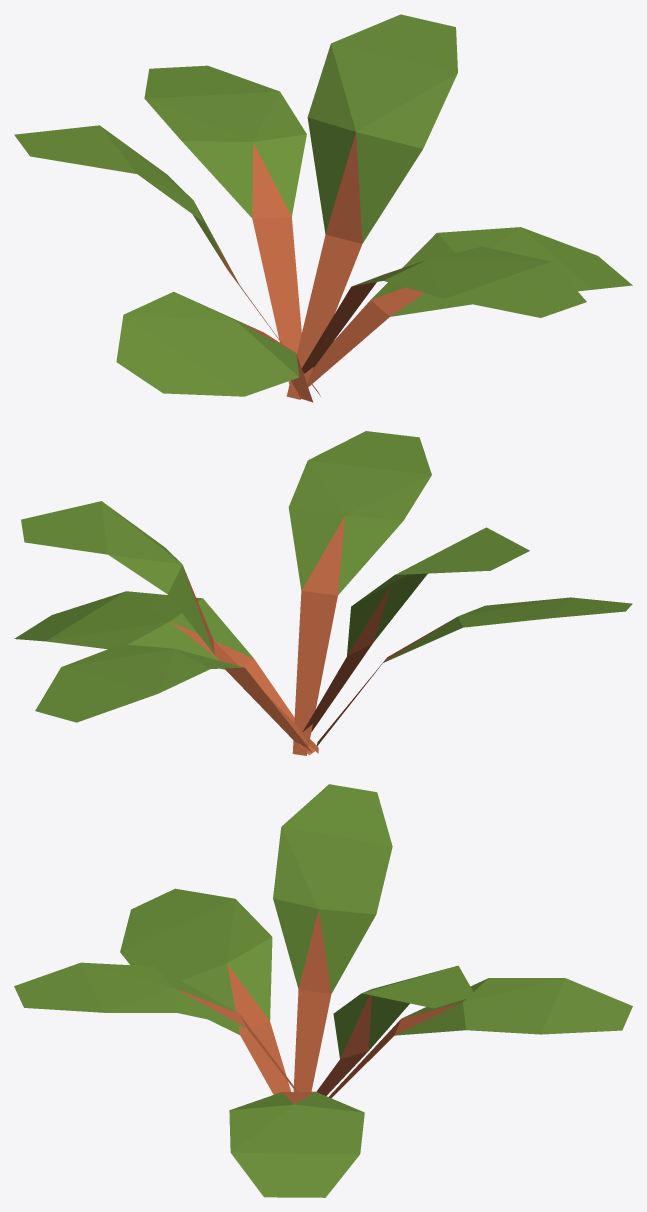
Rendered from plant_S05.FBX.
The picture shows the model from 3 angles, top to bottom: view 1: azimuth 30°, elevation 25°; view 2: azimuth 150°, elevation 25°; view 3: azimuth 270°, elevation 25°; orthographic projection. The views are drawn at different scales.
Visible parts, largest first — view 1: plant_S05; view 2: plant_S05; view 3: plant_S05.
Part boxes in pixels (<box>): plant_S05: <box>14,14,632,402</box>; plant_S05: <box>14,431,632,755</box>; plant_S05: <box>14,784,632,1197</box>.
Size of the model in its own units: 64.82 by 31.29 by 74.81.
1 material, 1 textured.
